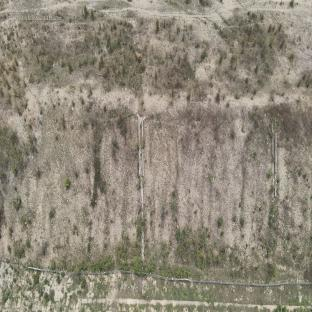slope_drain: (137, 115, 148, 264), (271, 116, 282, 203)
toe_drain: (41, 265, 194, 286)
